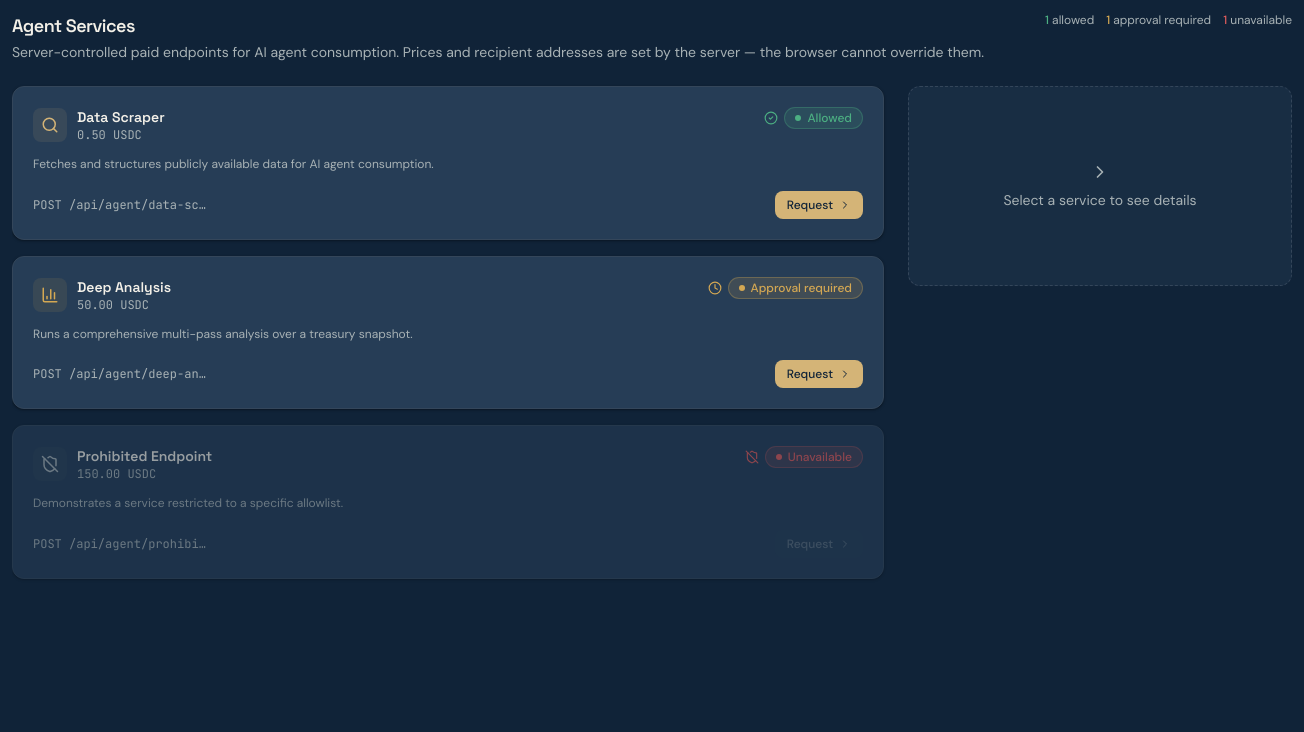
AgentServicesView — unavailable service › shows the allowlist notice in the detail panel for Prohibited Endpoint
Step 1. Click the button with test id "service-card-prohibited-endpoint" → (50, 464), box [12, 425, 884, 578]
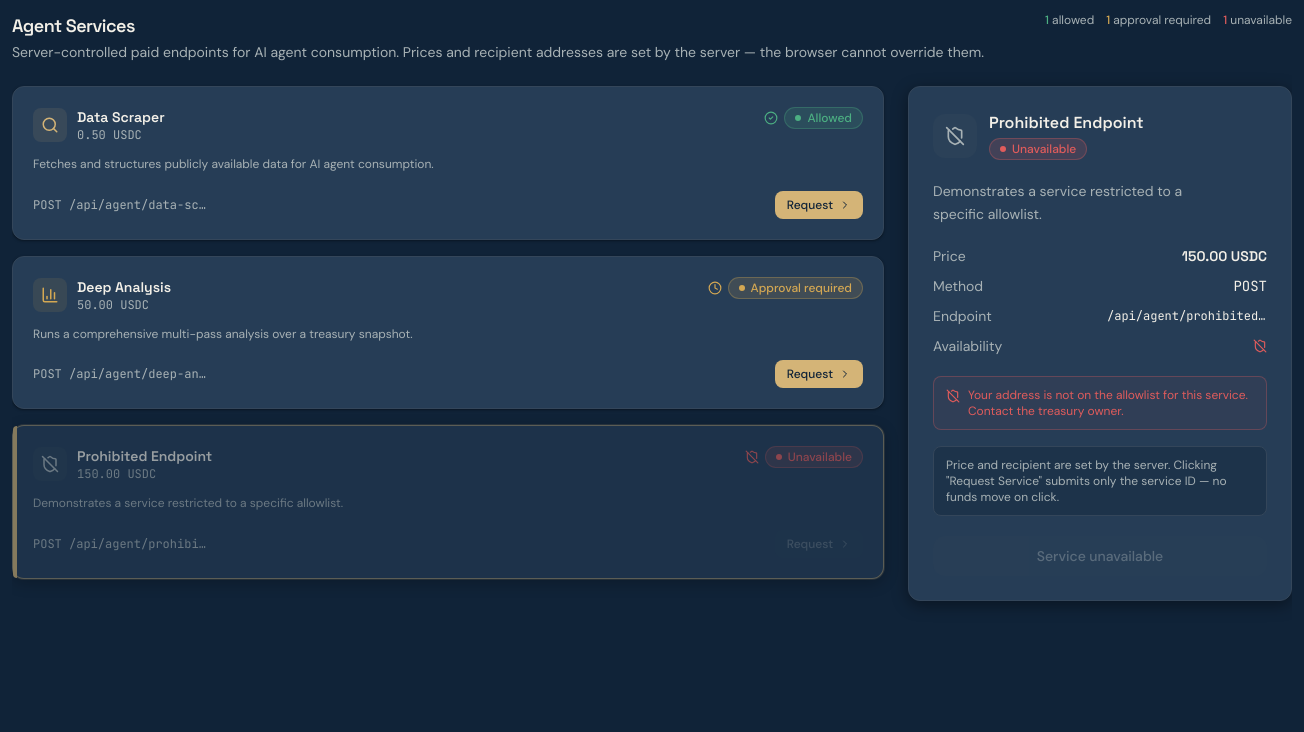
Expected: the element with test id "detail-unavailable-notice" is shown, [933, 376, 1267, 430]
